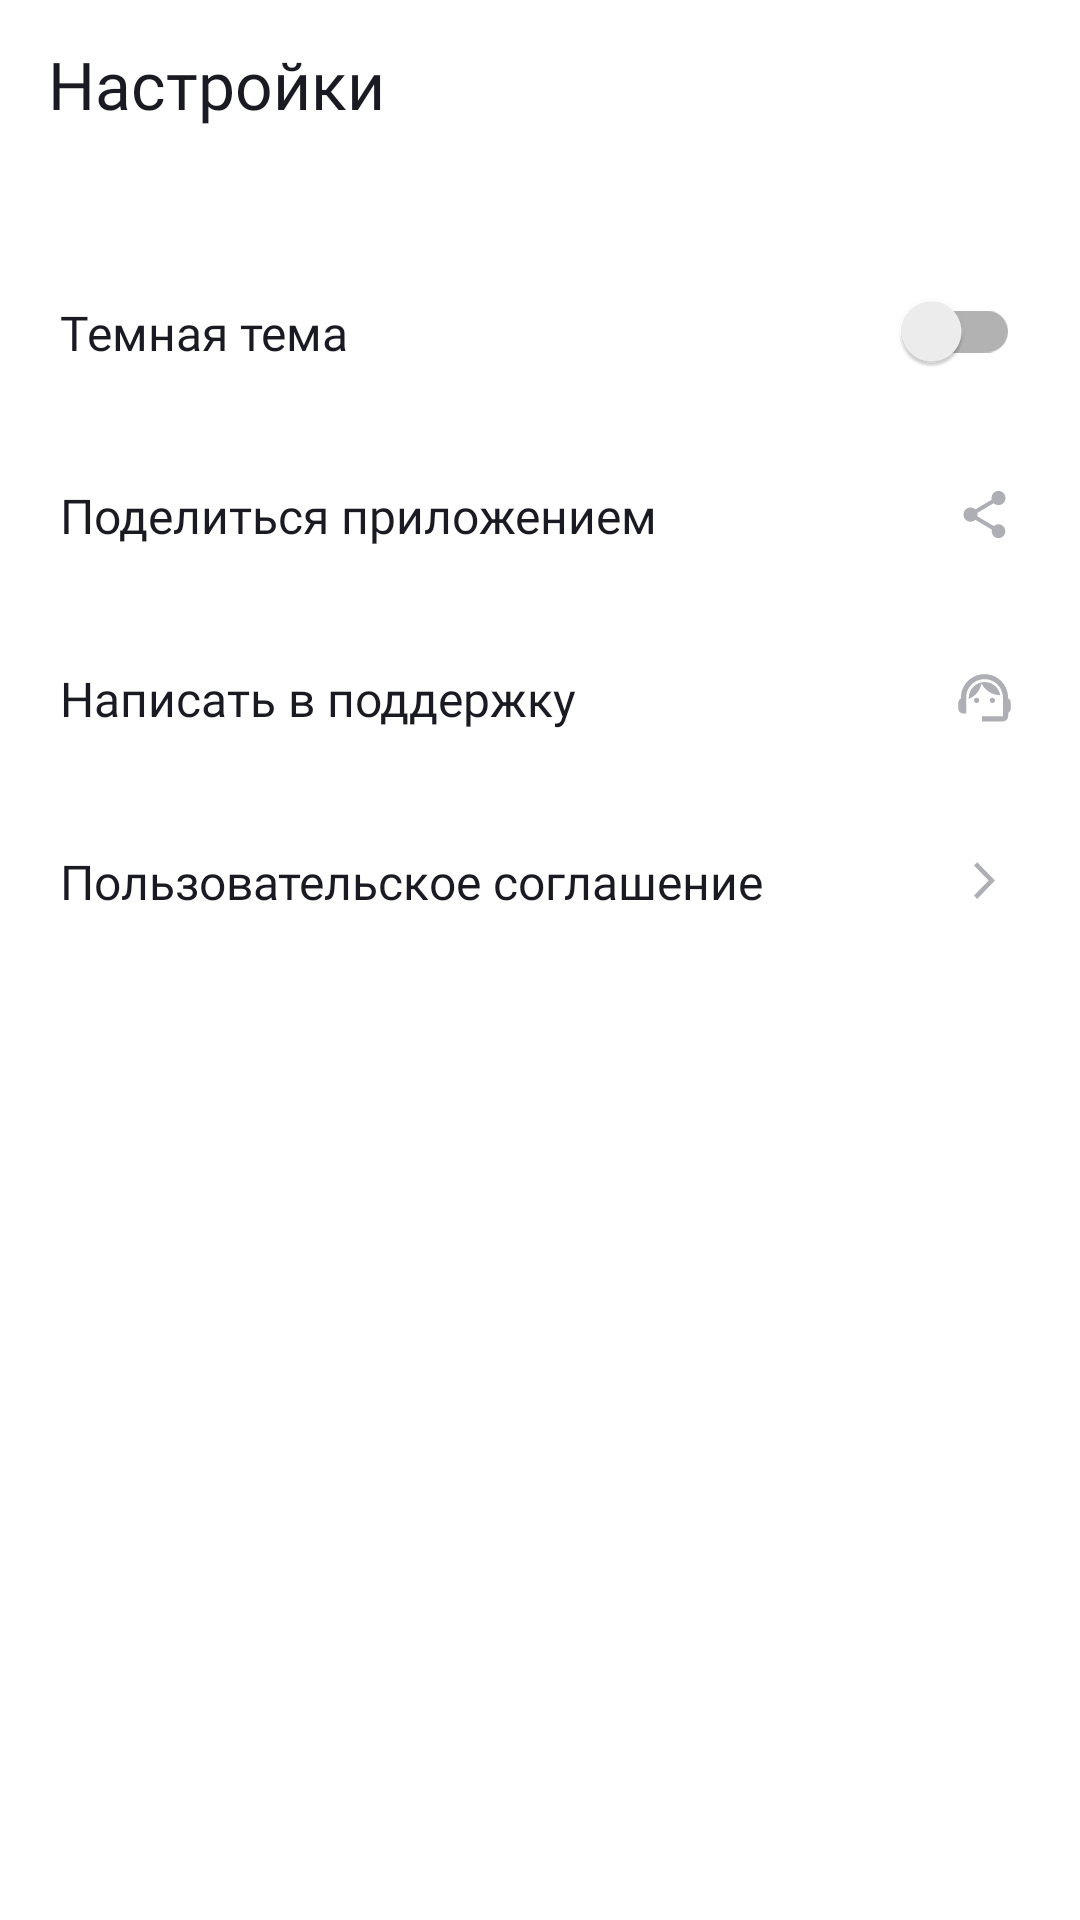

Screen size 1080*1920. Icon name, then its box in pixels as (x1, y1, x2, y2):
galochka: (974, 862, 995, 899)
share: (963, 491, 1006, 538)
support: (958, 674, 1011, 722)
